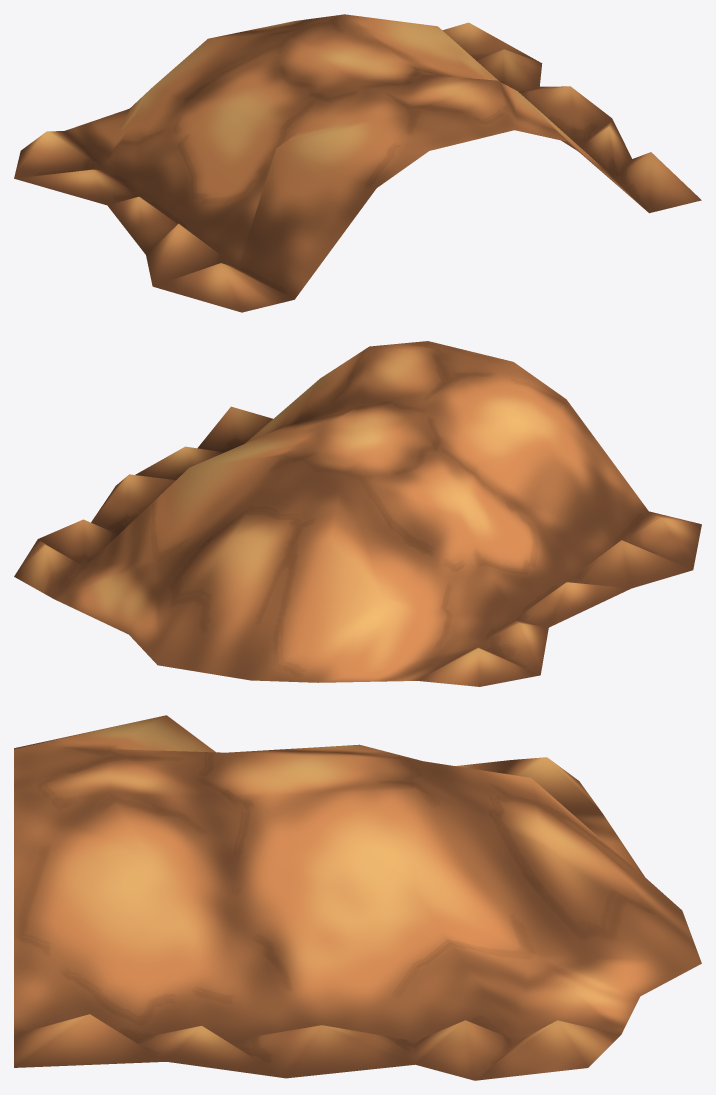
File: mogura_tunnel_start.fbx
The picture shows the model from 3 angles, top to bottom: view 1: azimuth 30°, elevation 25°; view 2: azimuth 150°, elevation 25°; view 3: azimuth 270°, elevation 25°; orthographic projection. The views are drawn at different scales.
Visible parts, largest first — view 1: Mogura_tunnel_start; view 2: Mogura_tunnel_start; view 3: Mogura_tunnel_start.
Part boxes in pixels (left/top/right/bottom): Mogura_tunnel_start: left=14, top=14, right=701, bottom=312; Mogura_tunnel_start: left=14, top=341, right=701, bottom=686; Mogura_tunnel_start: left=14, top=715, right=701, bottom=1080.
Size of the model in its own units: 6.35 by 1.66 by 5.68.
